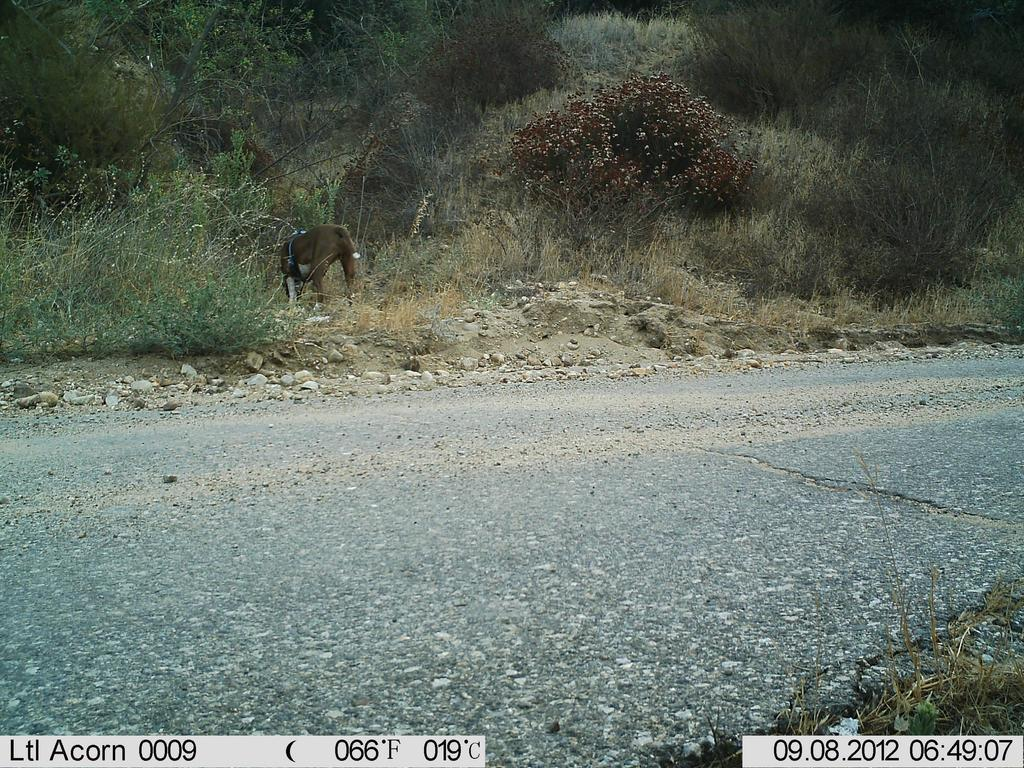dog: (257, 219, 383, 328)
